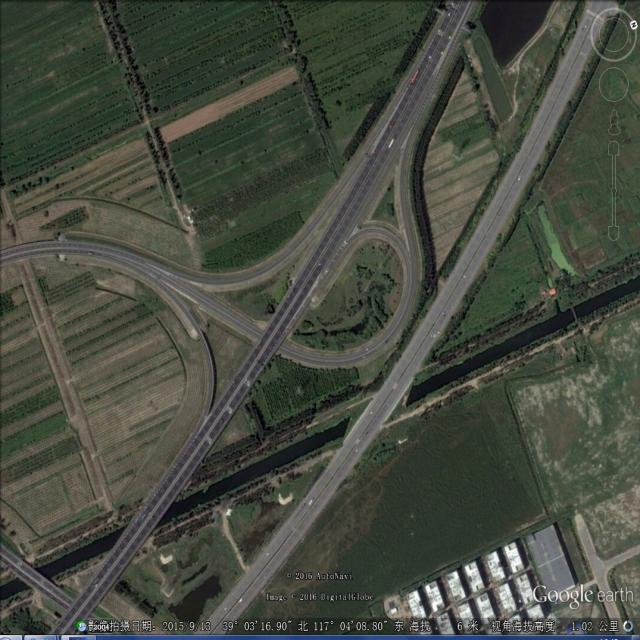overpass: (146, 155, 426, 429)
